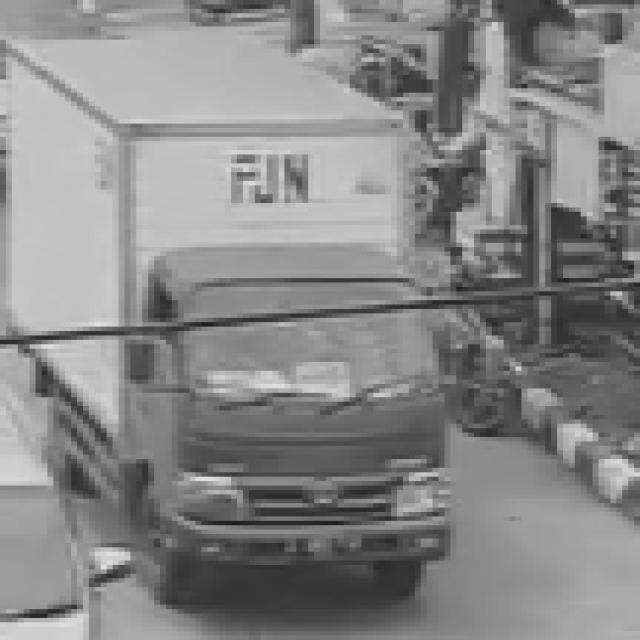Truck: (0, 24, 486, 602)
